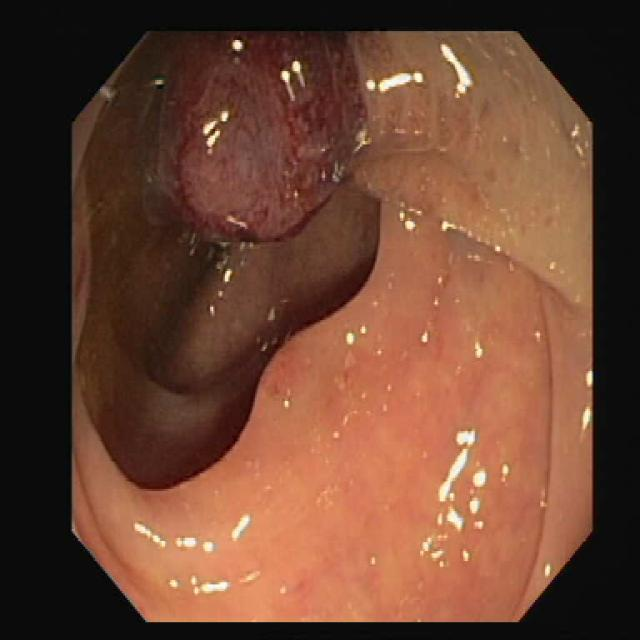tumor: (172, 64, 357, 211), (258, 324, 330, 418)
